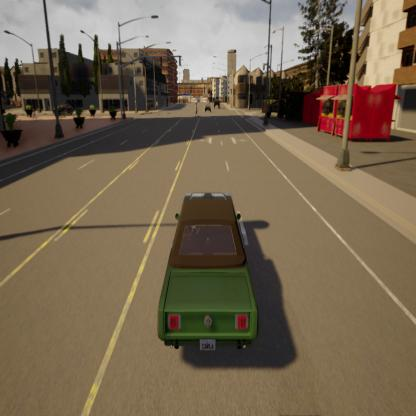Cars: (158, 189, 259, 364)
Pedestrian: (193, 98, 199, 119)
